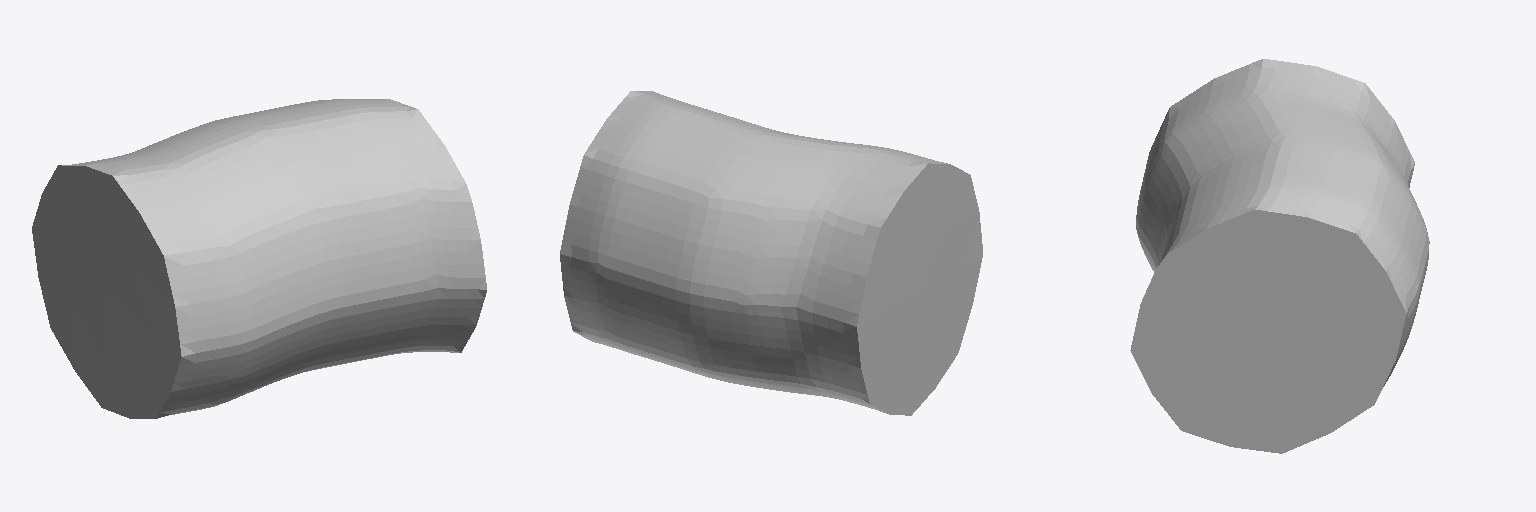
File: pipe.obj
3 views of the same model, side by side, from view 1: azimuth 30°, elevation 25°; view 2: azimuth 150°, elevation 25°; view 3: azimuth 270°, elevation 25° (orthographic).
Visible parts, largest first — view 1: Pcf; view 2: Pcf; view 3: Pcf.
Boxes of the visible parts, x1,y1,x2,y2 form: Pcf: [32, 99, 486, 418]; Pcf: [560, 91, 982, 415]; Pcf: [1130, 59, 1429, 453].
Size of the model in its own units: 4.28 by 3.22 by 3.54.